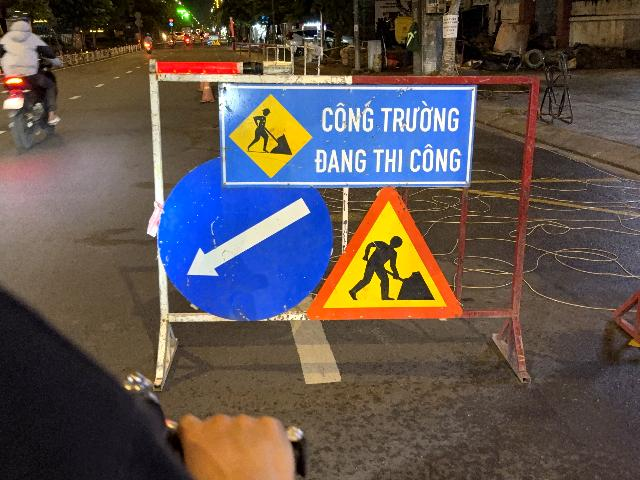cong-truong-dang-thi-cong: (306, 184, 463, 321)
huong-phai-di-vong-chuong-ngai-vat: (158, 156, 333, 322)
